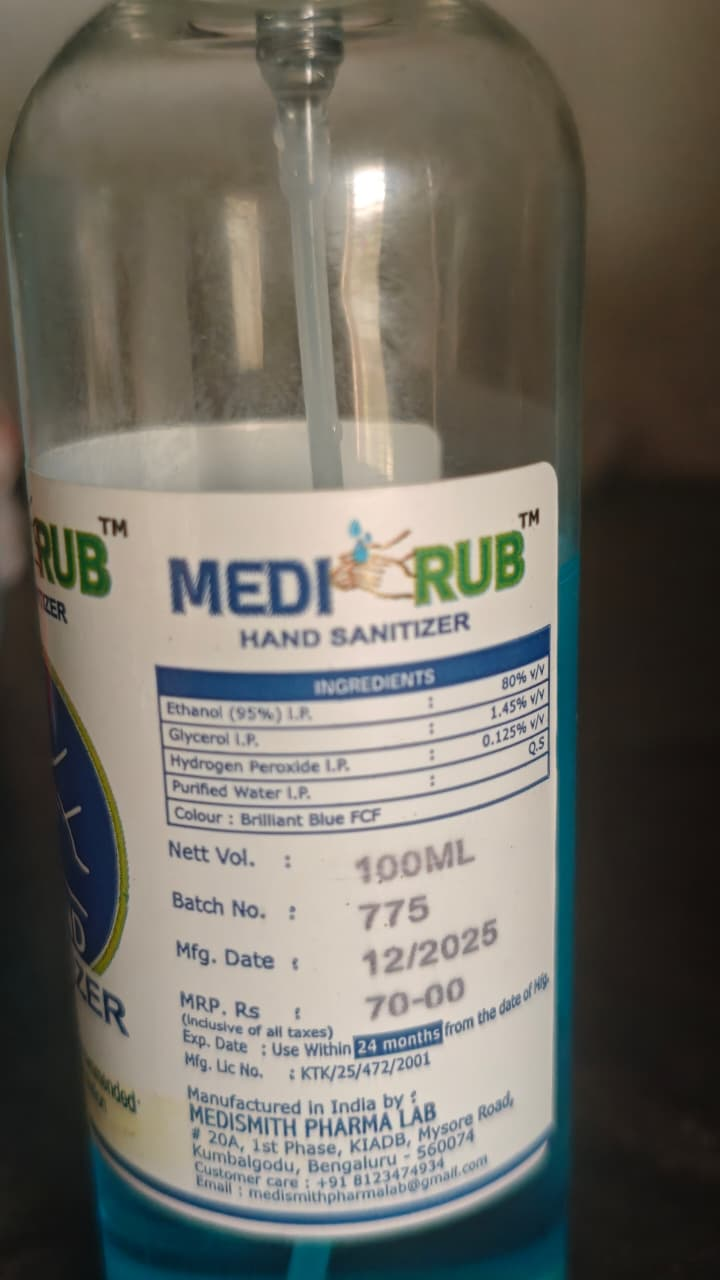Brand: (138, 528, 561, 616)
Ingredients: (141, 646, 558, 831)
MFG_Date: (179, 977, 553, 1068)
MRP: (180, 989, 479, 1026)
